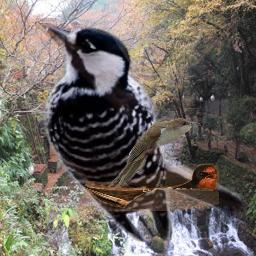Cuckoo: (108, 118, 201, 188)
Swallow: (85, 163, 219, 211)
Woodpecker: (35, 18, 248, 243)
